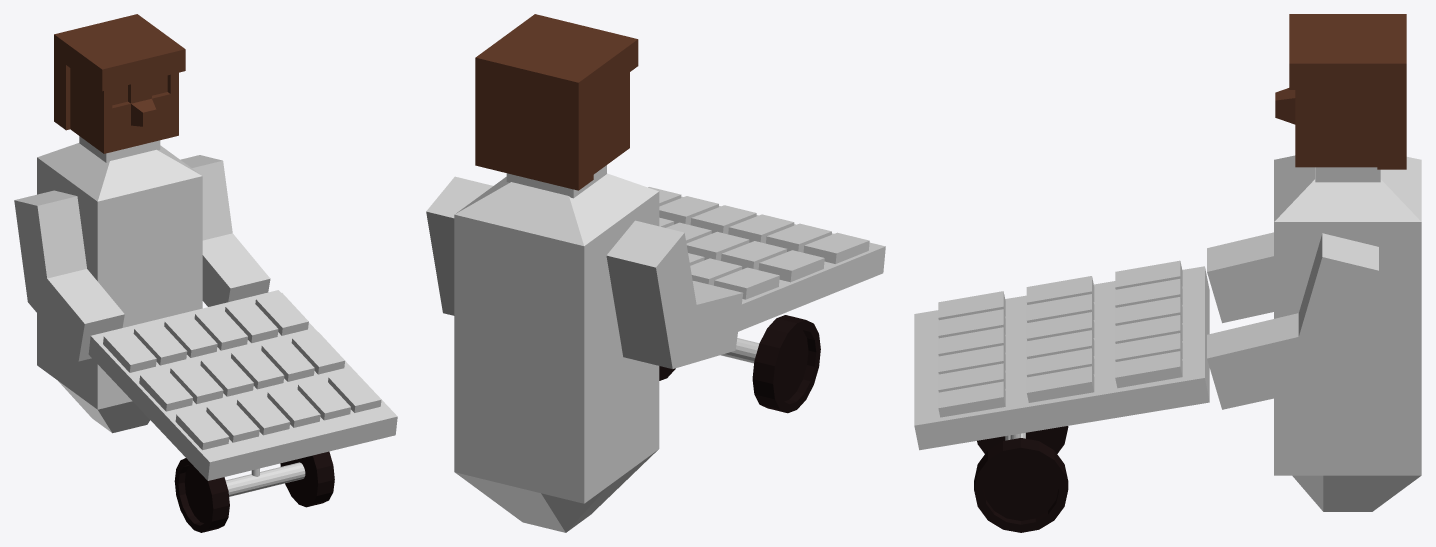
Rendered from Player.fbx.
3 renders of one model, left to right at view 1: azimuth 30°, elevation 25°; view 2: azimuth 150°, elevation 25°; view 3: azimuth 270°, elevation 25°, orthographic. The views are drawn at different scales.
Visible parts, largest first — view 1: Cube_2_3, Cube_1_3, Cube_2_2, Cube, Cylinder_0, Cylinder_1_2, Cube_12, Cube_6, Cylinder, Cube_0, Cube_15, Cube_16 (+14 smaller); view 2: Cube_2_3, Cube_2_2, Cube_1_3, Cylinder_0, Cube, Cube_6, Cube_0, Cube_12, Cube_2, Cube_3, Cube_1, Cube_7 (+5 smaller); view 3: Cube_2_3, Cube_1_3, Cube, Cube_2_2, Cylinder_1_2, Cube_17, Cube_11, Cube_5, Cube_6, Cube_9, Cube_10, Cube_7 (+13 smaller).
Boxes of the visible parts, bbox=[...] form: Cube_2_3: bbox=[37, 143, 202, 433]; Cube_1_3: bbox=[14, 155, 270, 361]; Cube_2_2: bbox=[54, 14, 185, 153]; Cube: bbox=[88, 290, 397, 480]; Cylinder_0: bbox=[174, 458, 229, 532]; Cylinder_1_2: bbox=[280, 451, 334, 507]; Cube_12: bbox=[103, 330, 156, 372]; Cube_6: bbox=[139, 369, 192, 411]; Cylinder: bbox=[225, 462, 305, 496]; Cube_0: bbox=[175, 408, 229, 450]; Cube_15: bbox=[194, 307, 247, 350]; Cube_16: bbox=[225, 300, 278, 343]; Cube_2_3: bbox=[454, 173, 659, 532]; Cube_2_2: bbox=[475, 14, 638, 190]; Cube_1_3: bbox=[426, 176, 743, 368]; Cylinder_0: bbox=[752, 315, 820, 413]; Cube: bbox=[681, 196, 885, 331]; Cube_6: bbox=[758, 250, 824, 282]; Cube_0: bbox=[803, 232, 869, 263]; Cube_12: bbox=[714, 267, 779, 299]; Cube_2: bbox=[728, 214, 794, 243]; Cube_3: bbox=[690, 205, 756, 234]; Cube_1: bbox=[766, 223, 831, 252]; Cube_7: bbox=[721, 241, 786, 269]; Cube_2_3: bbox=[1274, 155, 1421, 511]; Cube_1_3: bbox=[1207, 232, 1378, 409]; Cube: bbox=[914, 266, 1209, 450]; Cube_2_2: bbox=[1275, 14, 1406, 169]; Cylinder_1_2: bbox=[974, 438, 1068, 532]; Cube_17: bbox=[1115, 351, 1182, 388]; Cube_11: bbox=[1026, 366, 1094, 402]; Cube_5: bbox=[938, 381, 1005, 417]; Cube_6: bbox=[1026, 276, 1094, 304]; Cube_9: bbox=[1026, 330, 1094, 359]; Cube_10: bbox=[1026, 348, 1094, 377]; Cube_7: bbox=[1026, 294, 1094, 322].
Size of the model in its own units: 368 by 692 by 688.
